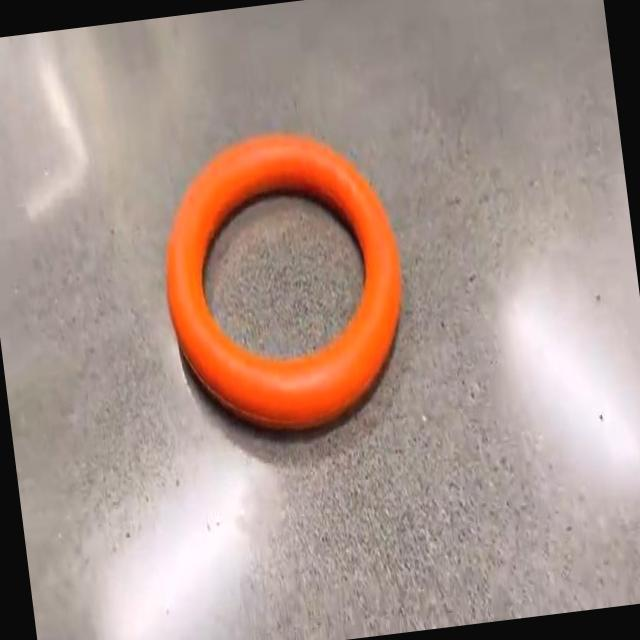note: (166, 134, 401, 428)
